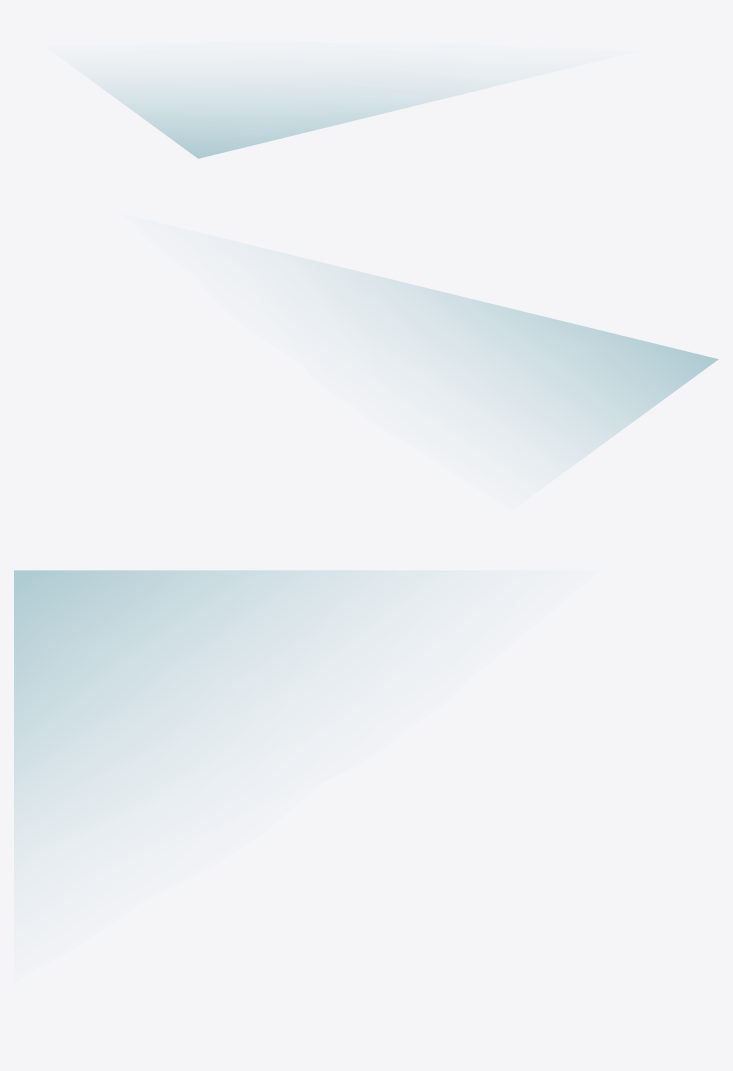
3 views of the same model, one above another, from view 1: azimuth 30°, elevation 25°; view 2: azimuth 150°, elevation 25°; view 3: azimuth 270°, elevation 25° (orthographic). The views are drawn at different scales.
Visible parts, largest first — view 1: city; view 2: city; view 3: city.
Part boxes in pixels (bbox=[...]): city: bbox=[93, 79, 500, 158]; city: bbox=[306, 259, 718, 464]; city: bbox=[14, 570, 421, 855].
Bounding box in the file's own units: 402 × 0 × 247.
